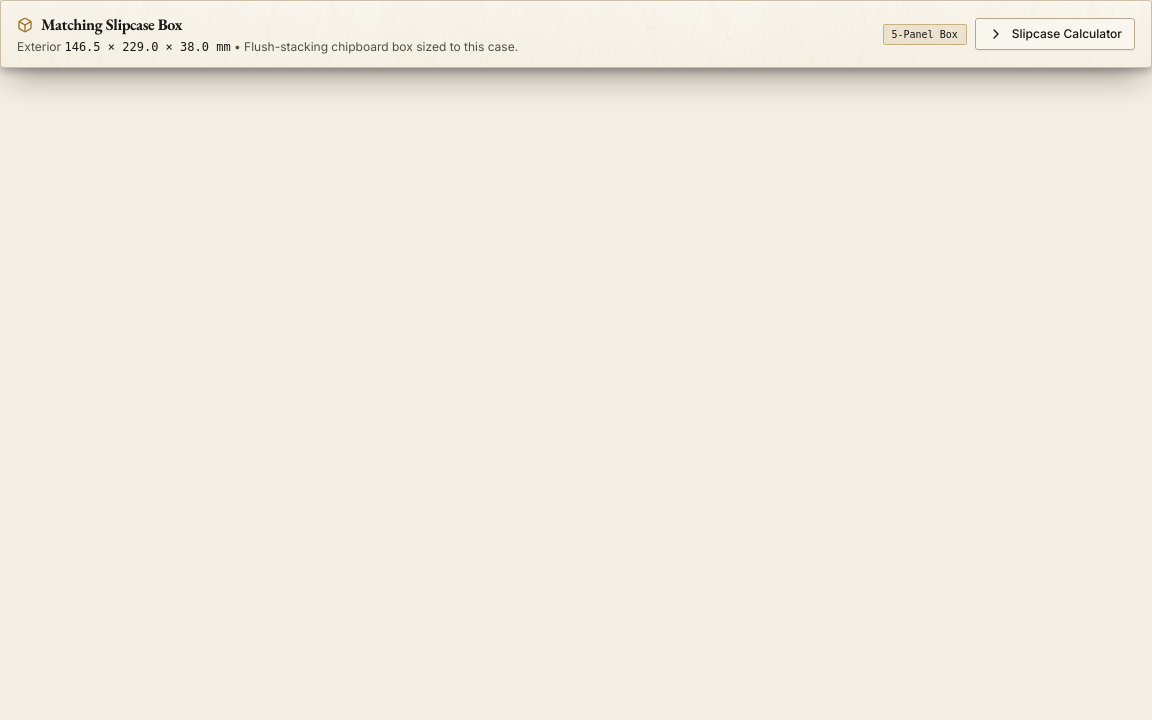
Scenario: SlipcaseCard › starts collapsed with a crisp exterior summary and expands to show controls, 5-piece cut table, wrap strips, and proportional SVG preview
The width and height of the screenshot is (1152, 720).
expect the element with test id "slipcase-card" is shown: met, box [0, 0, 1151, 68]
expect the text with test id "slipcase-summary-exterior" reads "146.5 × 229.0 × 38.0 mm": met, box [64, 40, 231, 54]
Click the button with test id "toggle-slipcase-calculator" at (1055, 34), box [975, 18, 1135, 50]
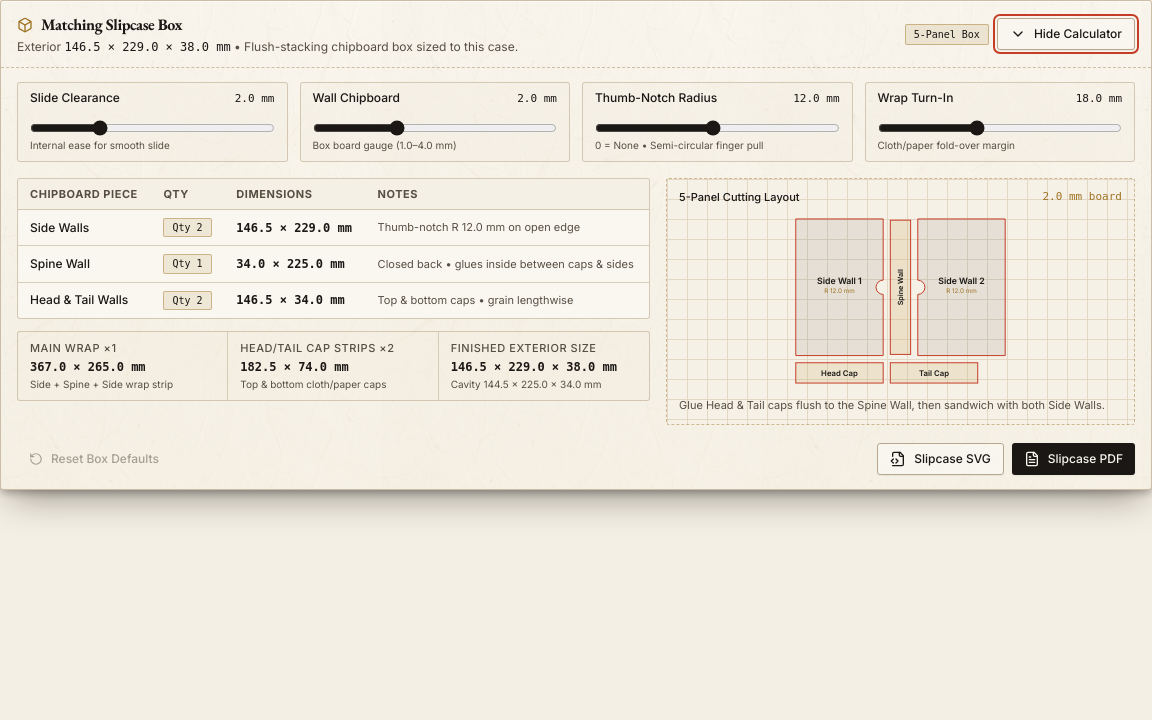
expect the button with test id "toggle-slipcase-calculator" is expanded: met, box [997, 18, 1135, 50]
expect the table with test id "slipcase-cut-table" is shown: met, box [18, 178, 649, 318]
expect the slider labelled "Slide Clearance" holds "2": met, box [30, 124, 274, 132]
